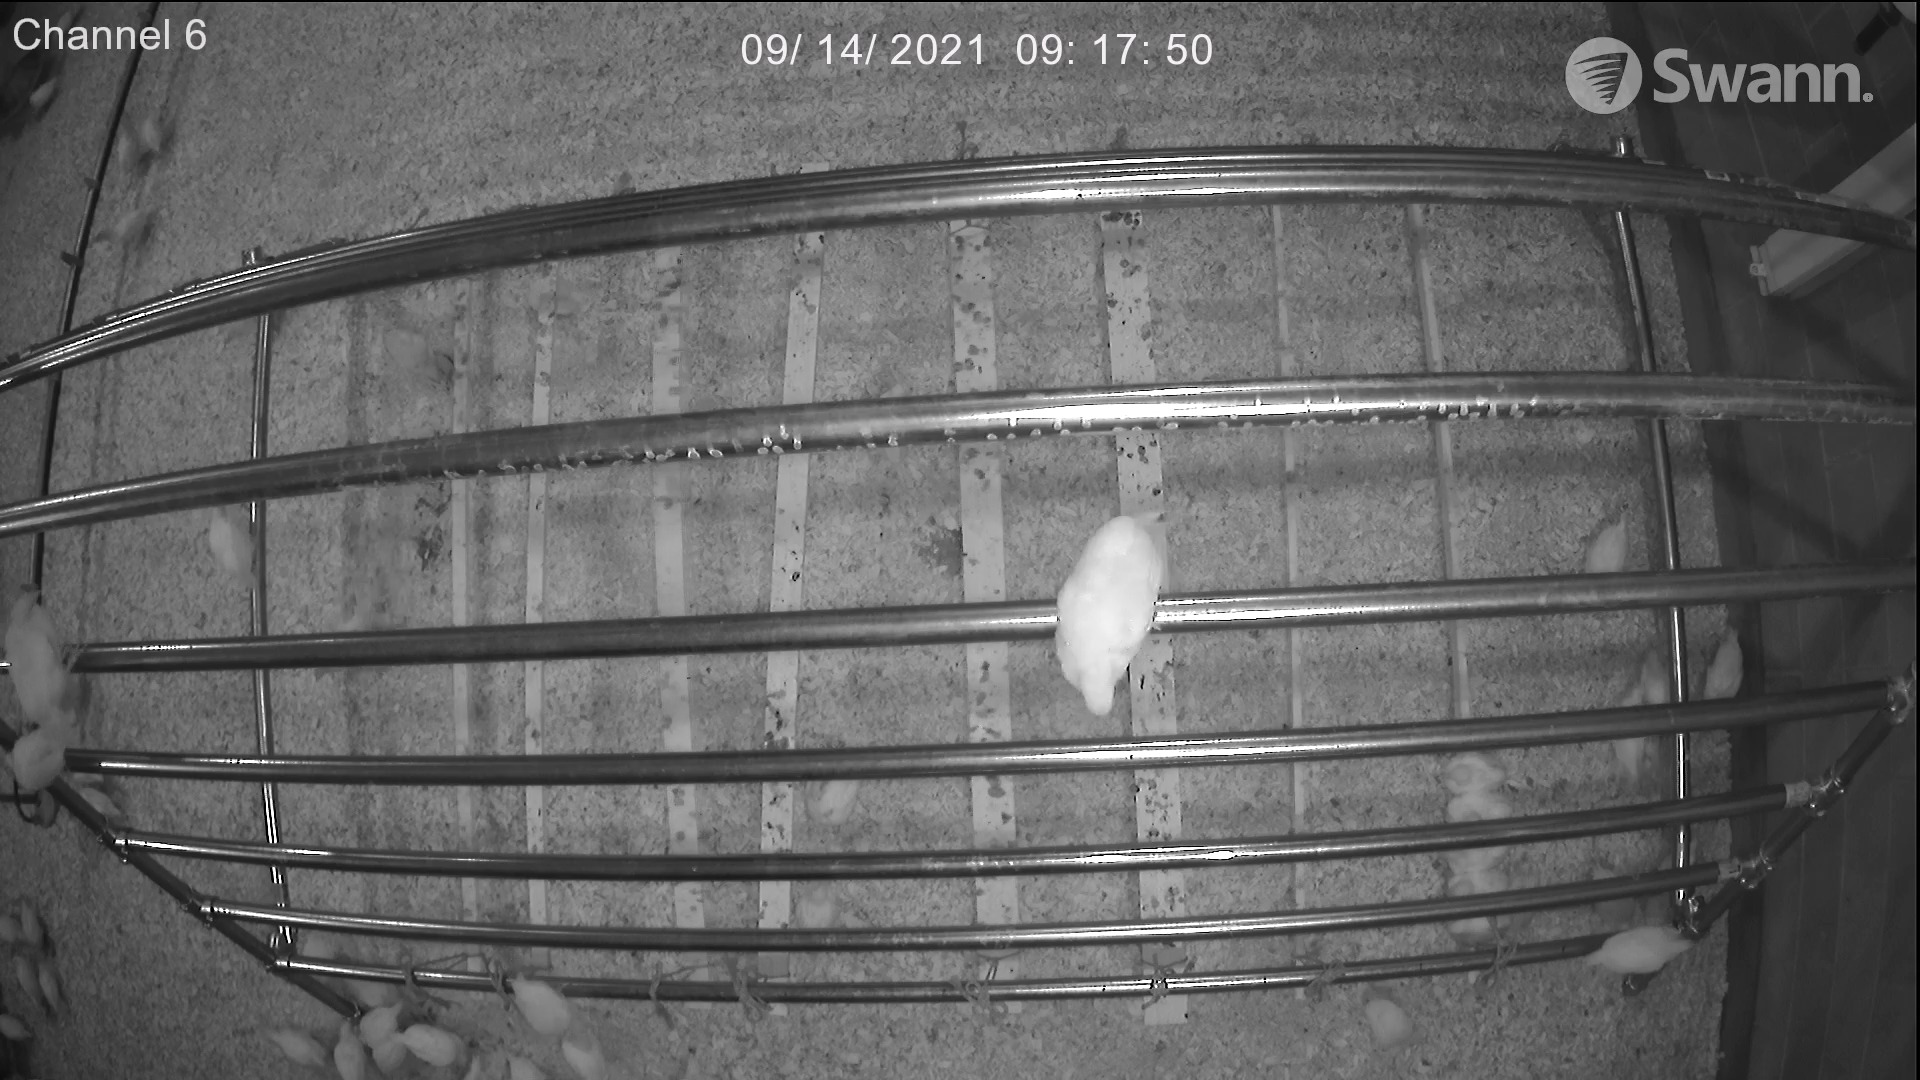Perching: (1033, 514, 1174, 727), (1, 589, 79, 802), (1571, 916, 1698, 998), (187, 506, 277, 593), (1423, 746, 1514, 822), (487, 967, 584, 1034), (1432, 844, 1519, 891)
